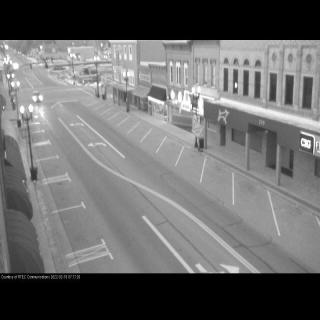car: (32, 90, 43, 102)
